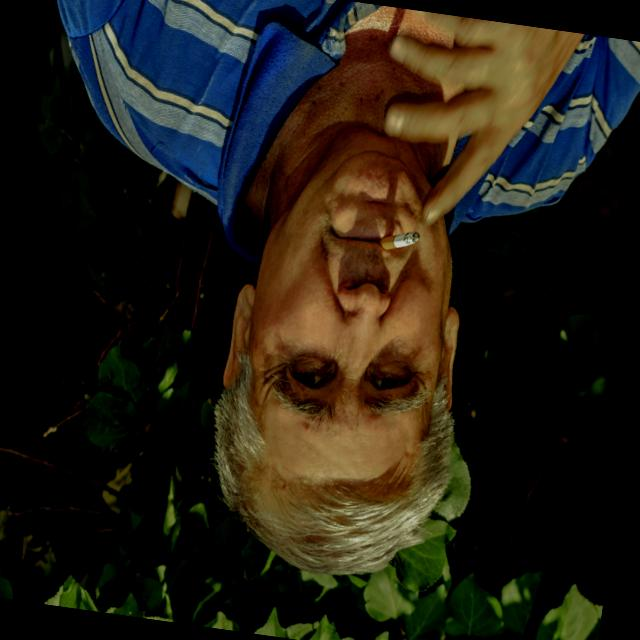smoke: (376, 217, 423, 260)
